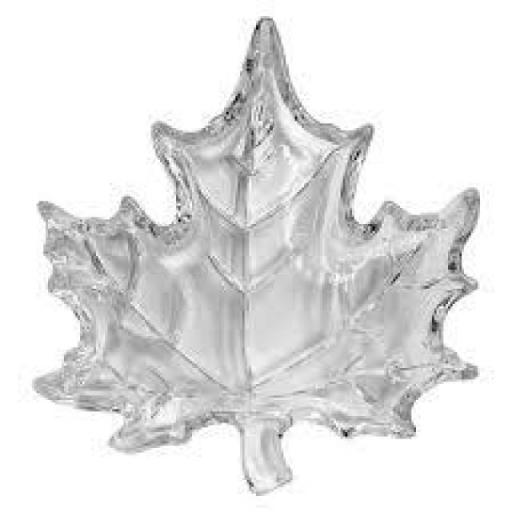glass: (4, 12, 508, 494)
